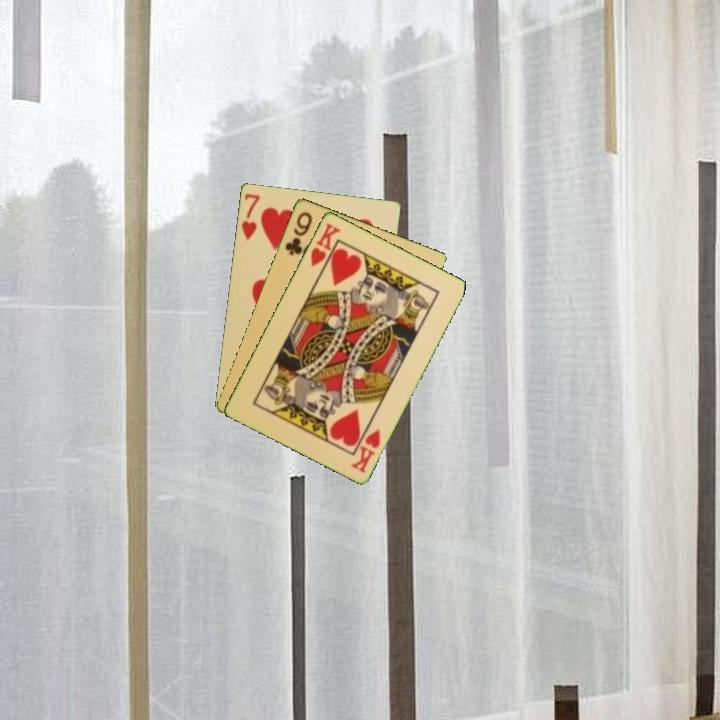7h: (237, 190, 263, 243)
9c: (281, 208, 315, 258)
Kh: (307, 219, 344, 276), (347, 425, 383, 475)
